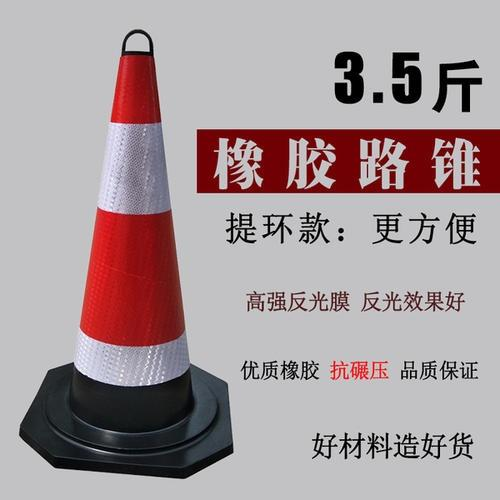cone_barrel: (51, 49, 208, 457)
